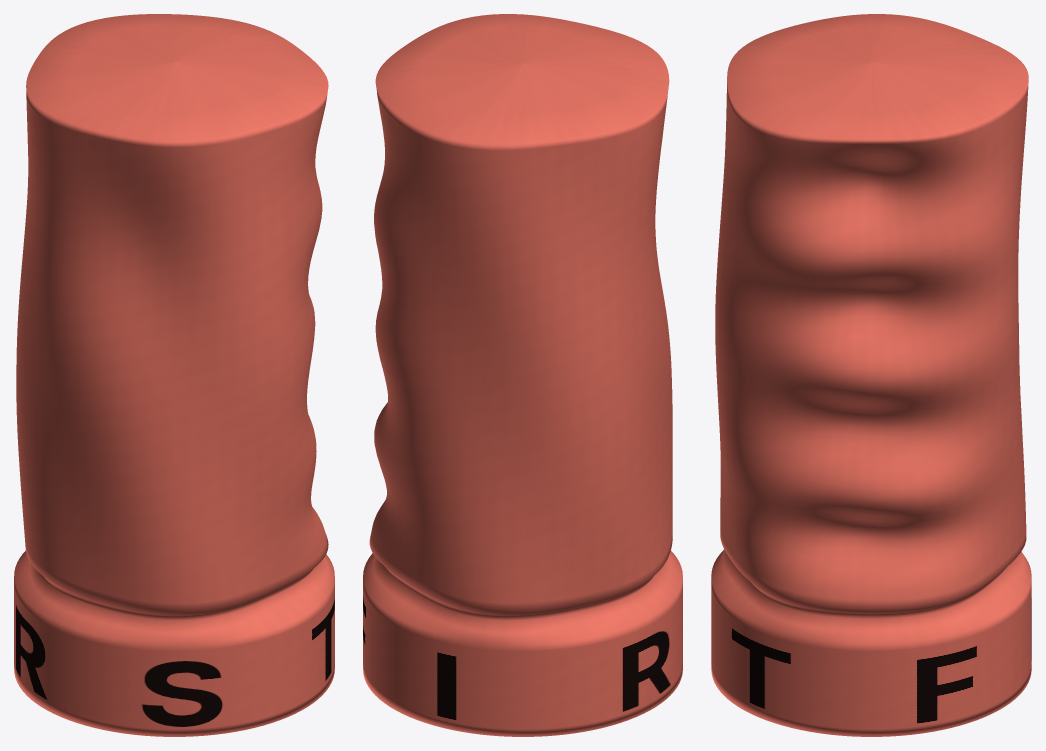
Rendered from first-study-ef651fc37c9d.glb.
3 renders of one model, left to right at view 1: azimuth 30°, elevation 25°; view 2: azimuth 150°, elevation 25°; view 3: azimuth 270°, elevation 25°, orthographic.
Bounding box in the file's own units: 0.98 × 2.1 × 0.98.
1 material, 1 textured.
